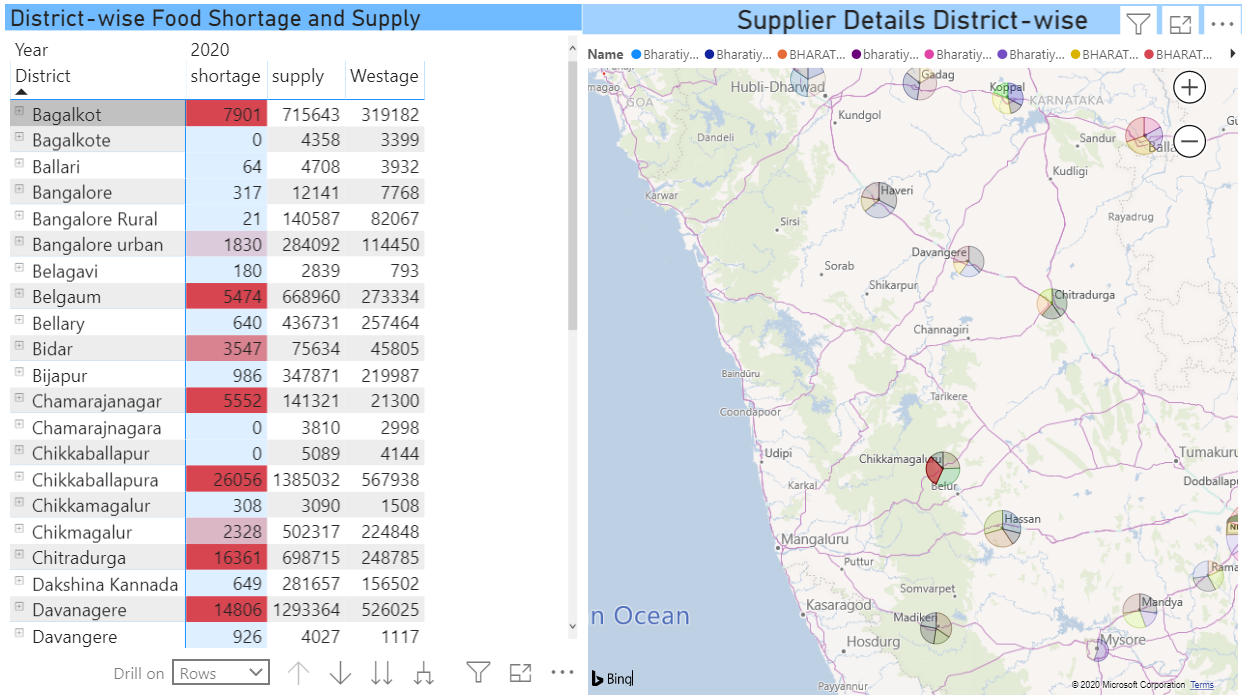

Layout of this report page (visuals, bound fields, positions):
{"tool":"powerbi","page":{"name":"District-wise Shortage and Supplier Details","canvas":[1280,720],"ordinal":1},"visuals":[{"type":"pivotTable","title":"District-wise Food Shortage and Supply","fields":{"Rows":["wastage_Districtwise.District","wastage_Districtwise.CenterName"],"Values":["Sum(wastage_Districtwise.shortage)","Sum(wastage_Districtwise.supply)","Sum(wastage_Districtwise.Westage)"],"Columns":["wastage_Districtwise.Date.Variation.Date Hierarchy.Year","wastage_Districtwise.Date.Variation.Date Hierarchy.Quarter","wastage_Districtwise.Date.Variation.Date Hierarchy.Month","wastage_Districtwise.Date.Variation.Date Hierarchy.Day"]},"box":[0,0,596.8,670.4],"z":0},{"type":"map","title":"Supplier Details District-wise","fields":{"Size":["Sum(Suppliers.NoOfMeals)"],"Category":["Suppliers.District"],"Y":["Min(Suppliers.Latitude)"],"X":["Min(Suppliers.Longitude)"],"Series":["Suppliers.Name"]},"box":[596.8,0,683.2,720],"z":1000}]}

Visuals, with their boxes on the page's 1280x720 design canvas (x1, y1, x2, y2). These are canvas units, not pixel positions in the 1246x696 screenshot, which may show the page scaled, cropped or inside an application window:
"District-wise Food Shortage and Supply" pivotTable: (0, 0, 597, 670)
"Supplier Details District-wise" map: (597, 0, 1280, 720)
